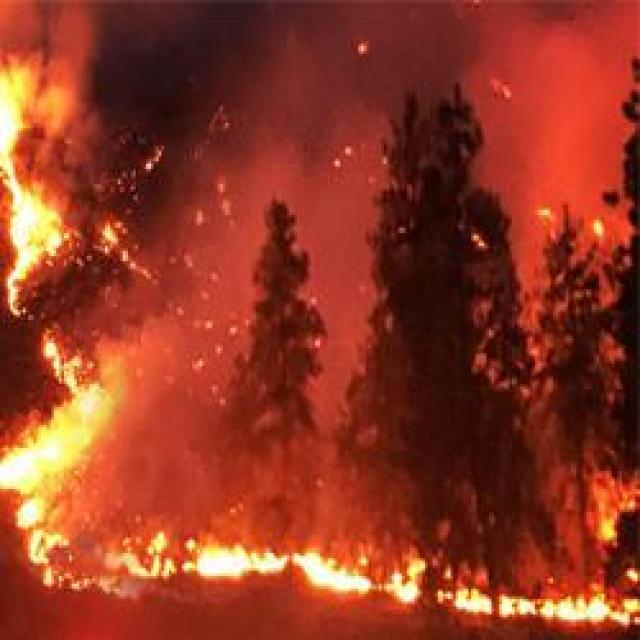fire: (9, 426, 72, 571), (3, 177, 56, 293), (468, 589, 640, 622), (290, 549, 371, 598), (386, 553, 425, 605), (198, 546, 252, 580), (0, 112, 19, 169), (73, 394, 104, 414)
smoke: (494, 0, 627, 207), (4, 3, 87, 113), (244, 41, 304, 191), (136, 332, 179, 505), (307, 170, 365, 293), (284, 596, 389, 638)
